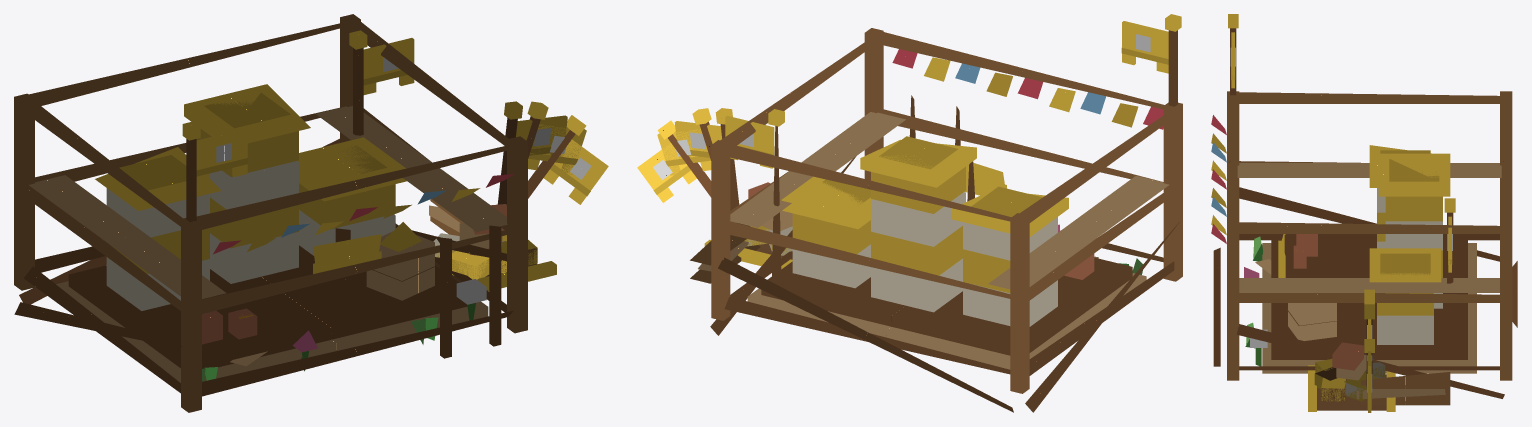
The model's file is bee-producer_lod1.glb.
The picture shows the model from 3 angles, left to right: view 1: azimuth 30°, elevation 25°; view 2: azimuth 150°, elevation 25°; view 3: azimuth 270°, elevation 25°; orthographic projection. The views are drawn at different scales.
Visible parts, largest first — view 1: scaffold-mesh, built-mesh, dismantle-50-mesh, dismantle-75-mesh, dismantle-25-mesh, scaffold-banner, dismantle-25-banner, banner, flag-pole, scaffold-flag-pole, dismantle-75-banner, dismantle-50-banner (+3 smaller); view 2: scaffold-mesh, built-mesh, dismantle-50-mesh, dismantle-75-mesh, scaffold-banner, dismantle-25-banner, dismantle-50-banner, banner, flag-pole, dismantle-25-mesh, dismantle-75-banner, scaffold-flag-pole (+2 smaller); view 3: scaffold-mesh, dismantle-50-mesh, built-mesh, dismantle-75-mesh, dismantle-25-mesh, flag-pole, scaffold-flag-pole.
Boxes of the visible parts, <box> form: scaffold-mesh: <box>14,14,527,412</box>; built-mesh: <box>95,84,475,382</box>; dismantle-50-mesh: <box>69,241,537,379</box>; dismantle-75-mesh: <box>56,137,537,379</box>; dismantle-25-mesh: <box>94,204,556,381</box>; scaffold-banner: <box>196,128,247,185</box>; dismantle-25-banner: <box>544,139,608,204</box>; banner: <box>363,38,414,94</box>; flag-pole: <box>349,30,367,135</box>; scaffold-flag-pole: <box>182,121,200,222</box>; dismantle-75-banner: <box>516,115,567,156</box>; dismantle-50-banner: <box>528,124,586,174</box>; scaffold-mesh: <box>690,28,1182,412</box>; built-mesh: <box>747,136,1146,355</box>; dismantle-50-mesh: <box>745,229,1131,354</box>; dismantle-75-mesh: <box>744,164,1145,360</box>; scaffold-banner: <box>1121,21,1168,73</box>; dismantle-25-banner: <box>637,143,696,202</box>; dismantle-50-banner: <box>657,129,711,175</box>; banner: <box>725,115,774,168</box>; flag-pole: <box>768,109,784,279</box>; dismantle-25-mesh: <box>704,182,1098,269</box>; dismantle-75-banner: <box>674,121,721,158</box>; scaffold-flag-pole: <box>1165,14,1181,106</box>; scaffold-mesh: <box>1211,91,1517,405</box>; dismantle-50-mesh: <box>1250,234,1467,401</box>; built-mesh: <box>1245,145,1450,365</box>; dismantle-75-mesh: <box>1247,195,1476,410</box>; dismantle-25-mesh: <box>1247,259,1395,411</box>; flag-pole: <box>1444,198,1455,349</box>; scaffold-flag-pole: <box>1228,14,1238,95</box>.
Size of the model in its own units: 2.7 by 1.55 by 1.71.
